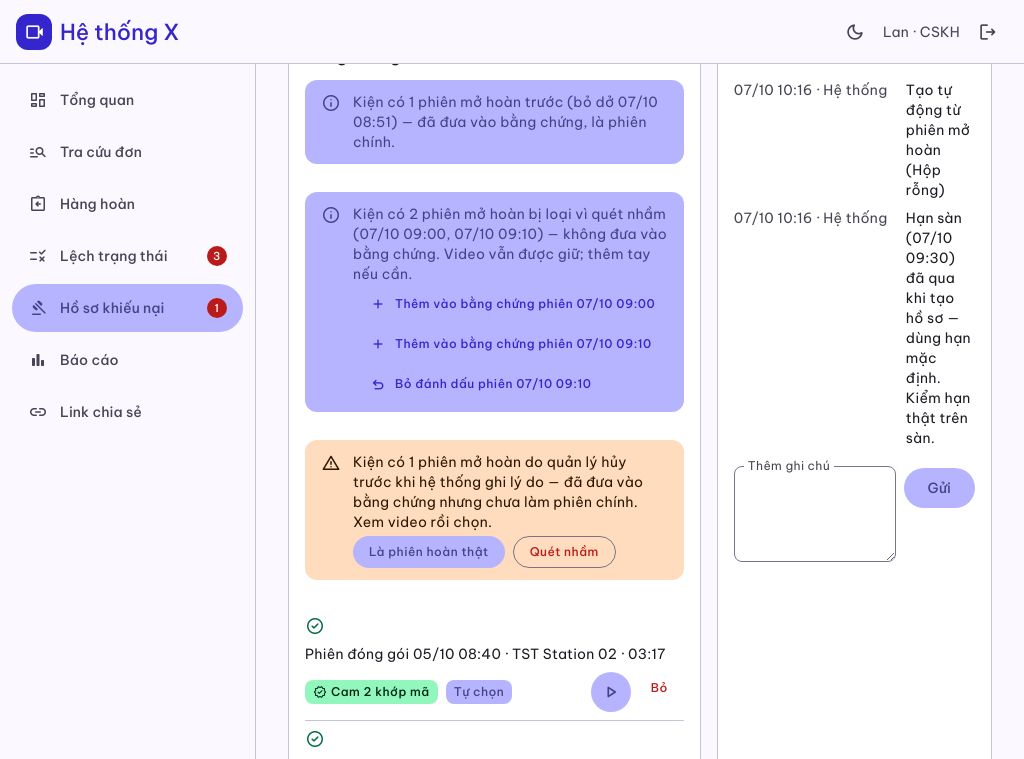
422 fields.note từ server hiện dưới ô
(page scrolled)
Click the button "Bỏ đánh dấu phiên 07/10 09:10": click(480, 384) top-left (353, 368), bottom-right (607, 400)
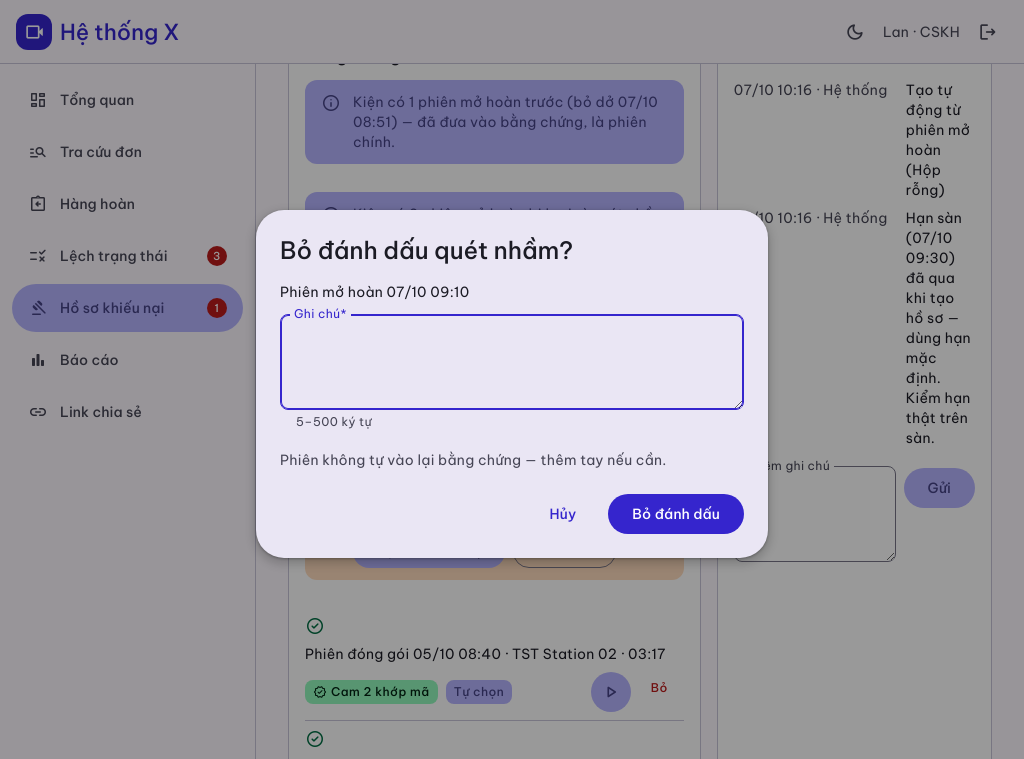
In the text box labelled "Ghi chú*": (512, 362) top-left (280, 314), bottom-right (744, 410), type "Ghi chú đủ dài"
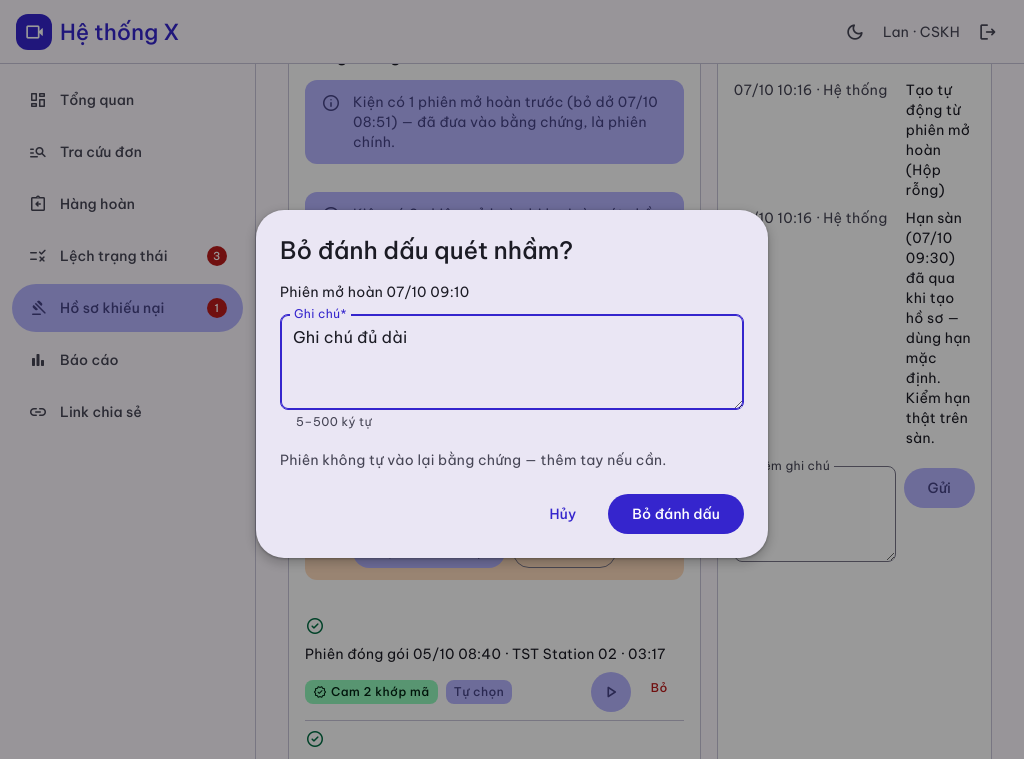
Click the button "Bỏ đánh dấu": click(676, 514) top-left (608, 494), bottom-right (744, 534)
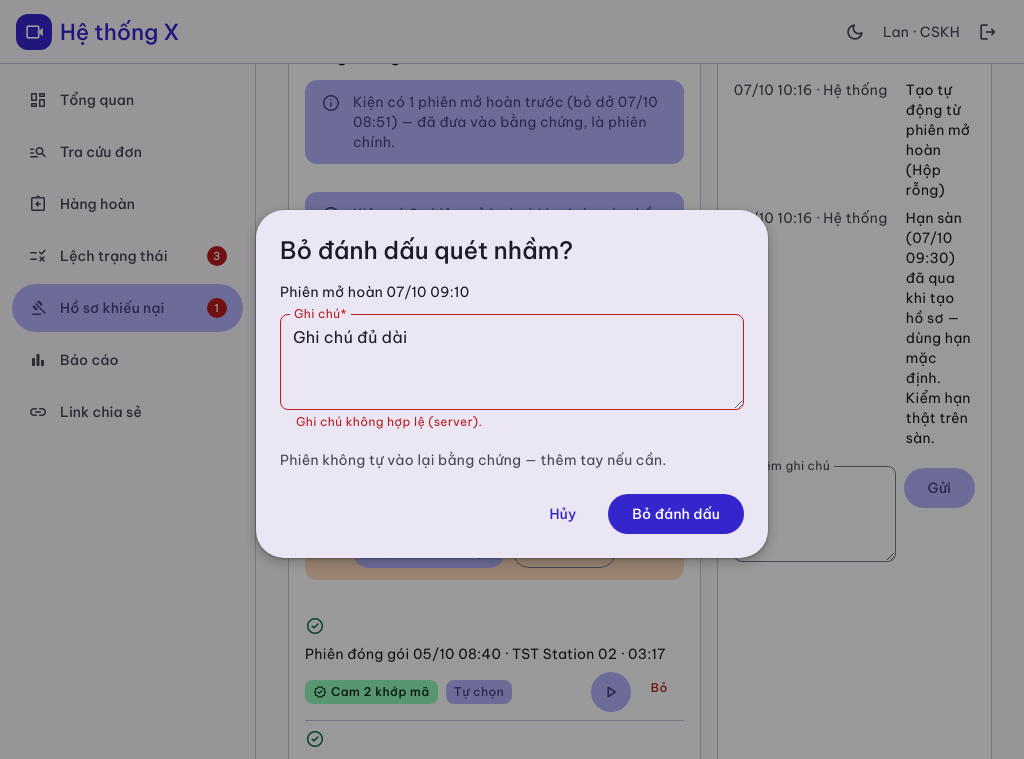
Expected: the text "Ghi chú không hợp lệ (server)." is shown, top-left (296, 414), bottom-right (482, 429)
